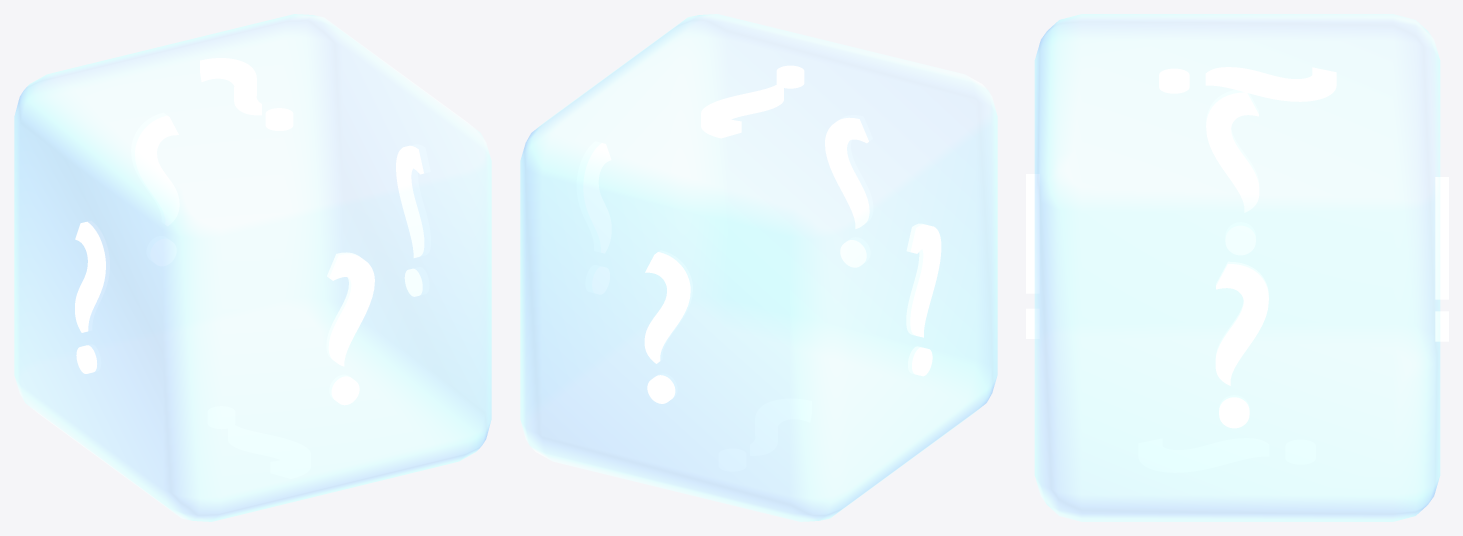
Rendered from item-box.glb.
3 views of the same model, side by side, from view 1: azimuth 30°, elevation 25°; view 2: azimuth 150°, elevation 25°; view 3: azimuth 270°, elevation 25° (orthographic). The views are drawn at different scales.
Visible parts, largest first — view 1: item-box; view 2: item-box; view 3: item-box.
Part boxes in pixels (x1,y1,x2,y2): item-box: (14,14,491,521); item-box: (520,14,997,521); item-box: (1026,14,1448,521).
Bounding box in the file's own units: 1.25 × 1.25 × 1.25.
